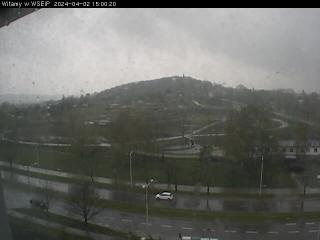car: (28, 196, 48, 209), (154, 190, 174, 200)
